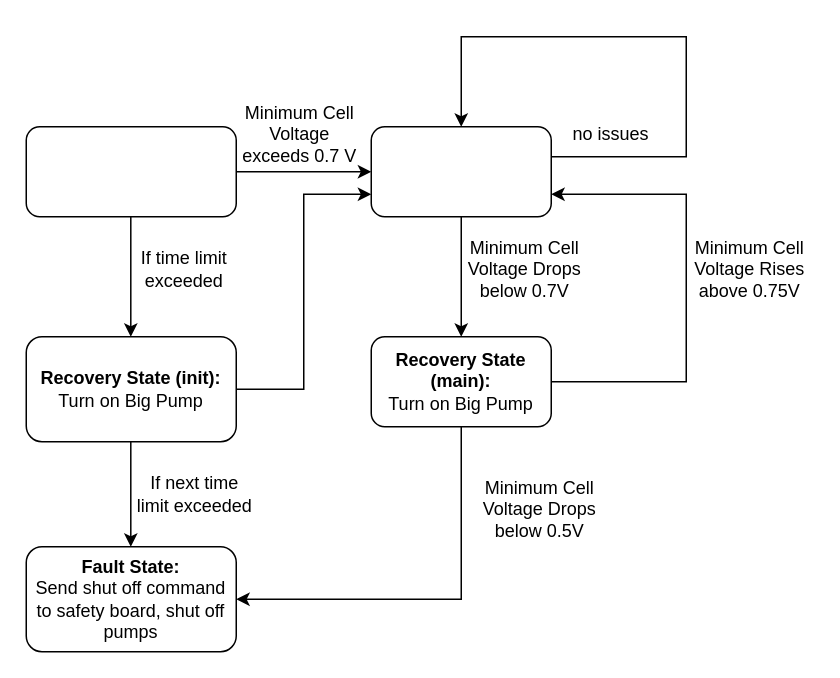
This 840x678 diagram has some shape labels left out. The centre of each missing label's shape, as x and y in pixels:
Initialization: Turn on Little Pump, Wait for minimum voltage to exceed 0.7 V: point (130, 171)
Main loop: Little Pump on, Big Pump off: point (460, 171)
